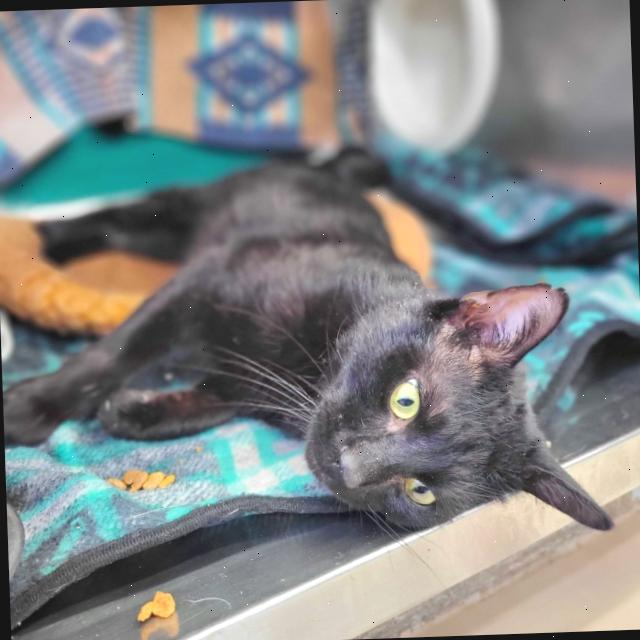bombay_cat: (284, 268, 634, 558)
